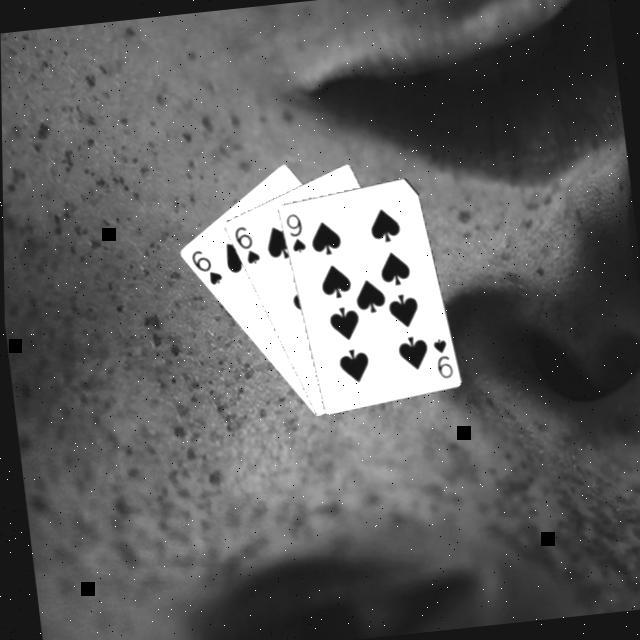6S: (187, 245, 226, 290), (230, 222, 263, 269)
9S: (427, 334, 456, 382), (280, 209, 308, 257)
